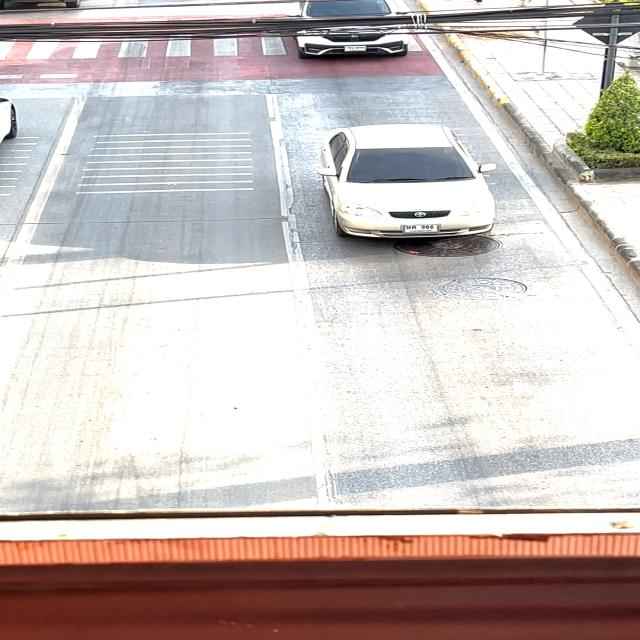car: (293, 118, 516, 258), (290, 1, 418, 62)
